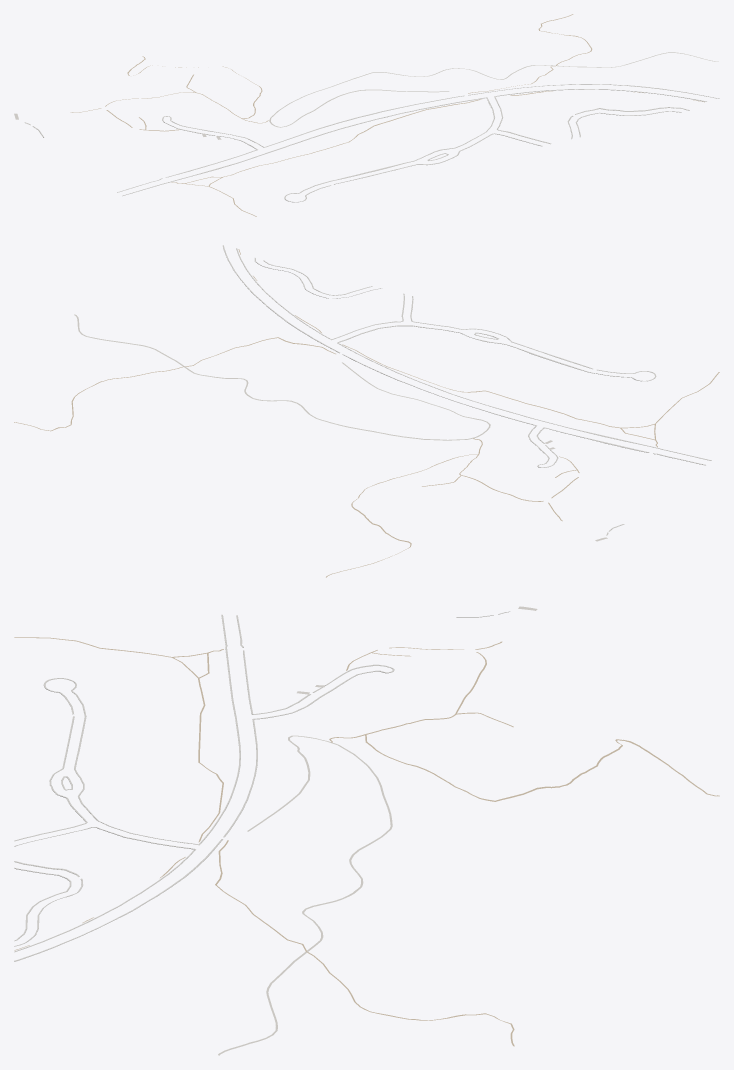
The model's file is ground_r5_c0.glb.
3 views of the same model, one above another, from view 1: azimuth 30°, elevation 25°; view 2: azimuth 150°, elevation 25°; view 3: azimuth 270°, elevation 25° (orthographic). The views are drawn at different scales.
Visible parts, largest first — view 1: sidewalks, paths; view 2: sidewalks, paths; view 3: paths, sidewalks.
Part boxes in pixels (box(x1,y1,x2,y2)): sidewalks: box(24, 84, 719, 202); paths: box(70, 14, 718, 216); sidewalks: box(222, 245, 711, 535); paths: box(14, 249, 719, 577); paths: box(14, 637, 719, 1055); sidewalks: box(14, 611, 509, 961).
Size of the model in its own units: 1135 by 95.96 by 788.
